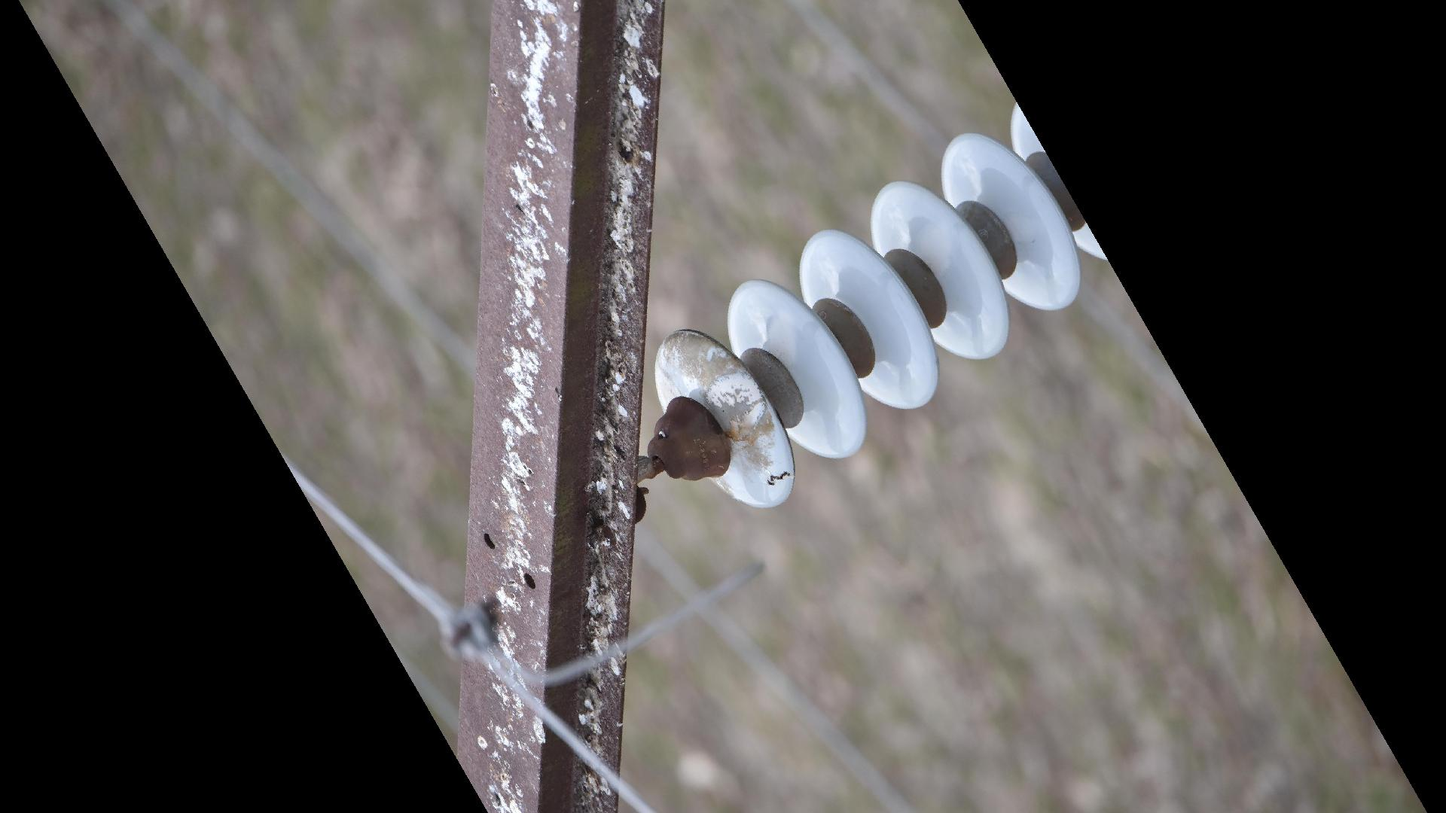insulator: (648, 99, 1109, 517)
insulator_flashover: (703, 368, 770, 436)
